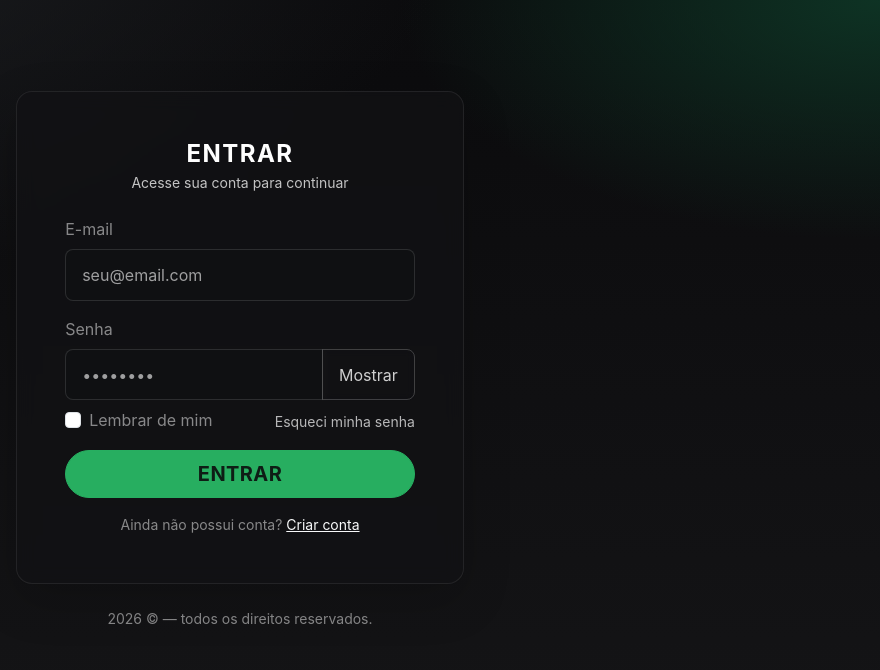
Test: Login › shows the API error
Type "user@example.com" into the field labelled "E-mail" at (240, 275), box [65,249,415,301]
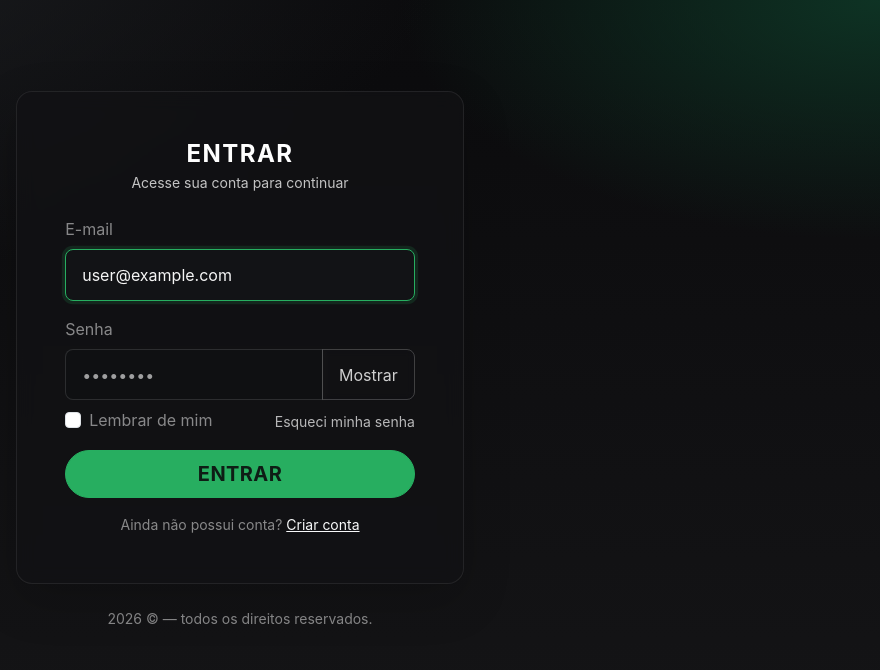
Type "wrong123" into the password field labelled "Senha" at (194, 375), box [65,349,323,400]
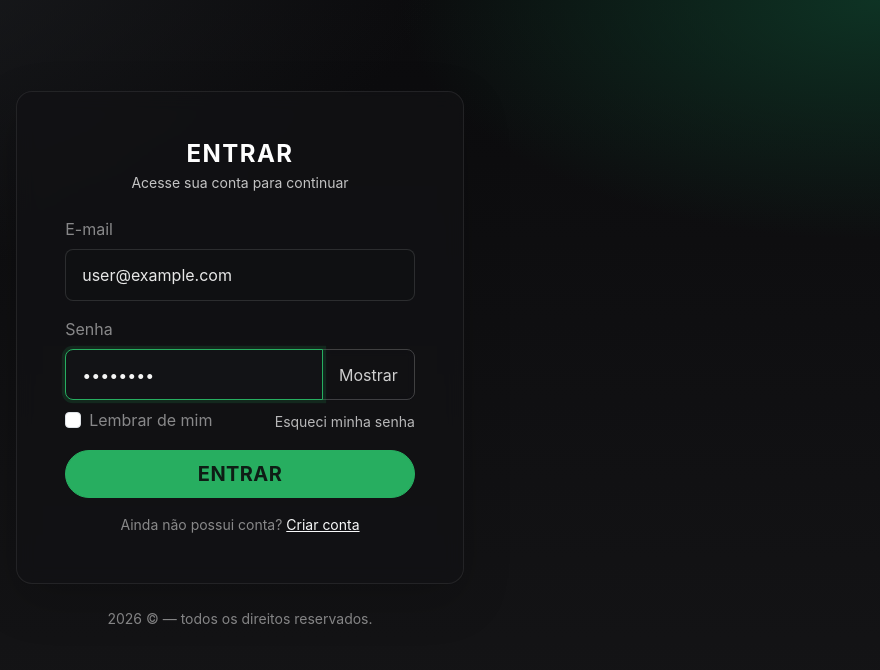
Click the button "Entrar" at (240, 474), box [65,450,415,498]
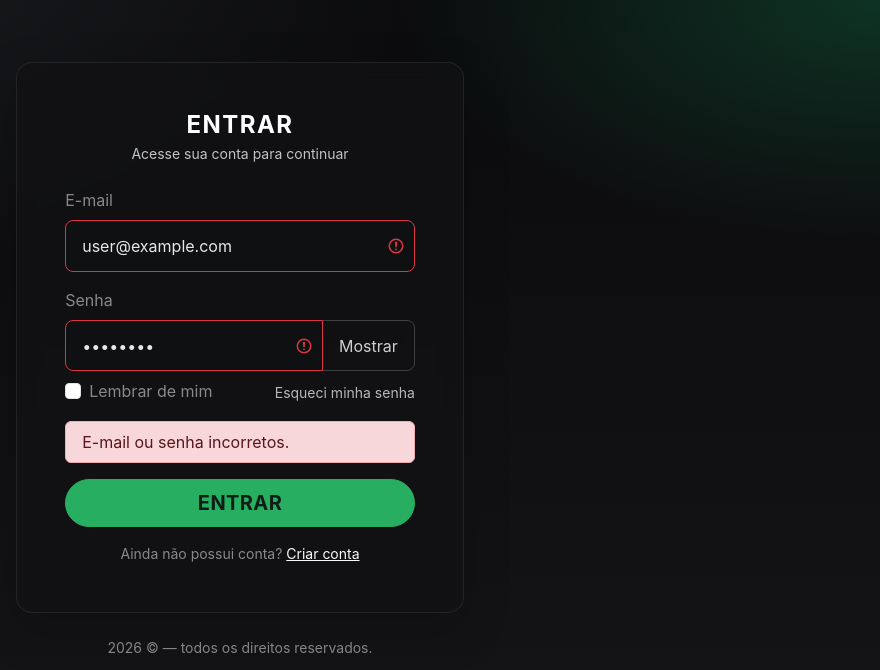
Result: the text "E-mail ou senha incorretos." is shown at [65,422,415,464]
